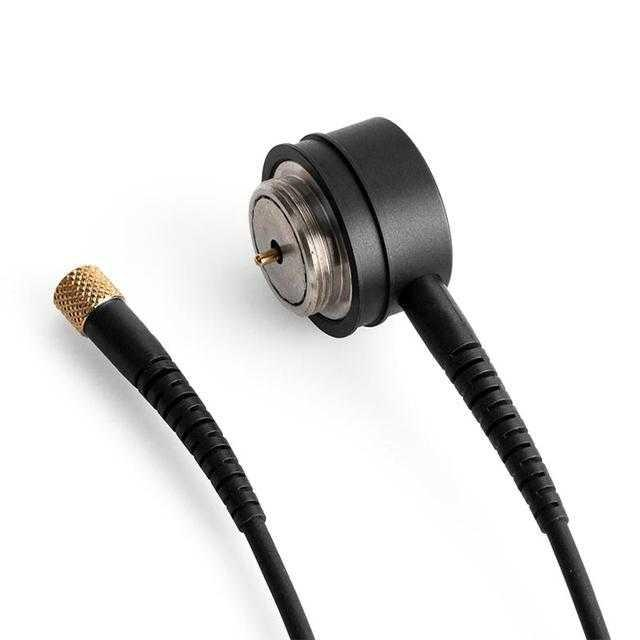microphone: (56, 264, 219, 404)
